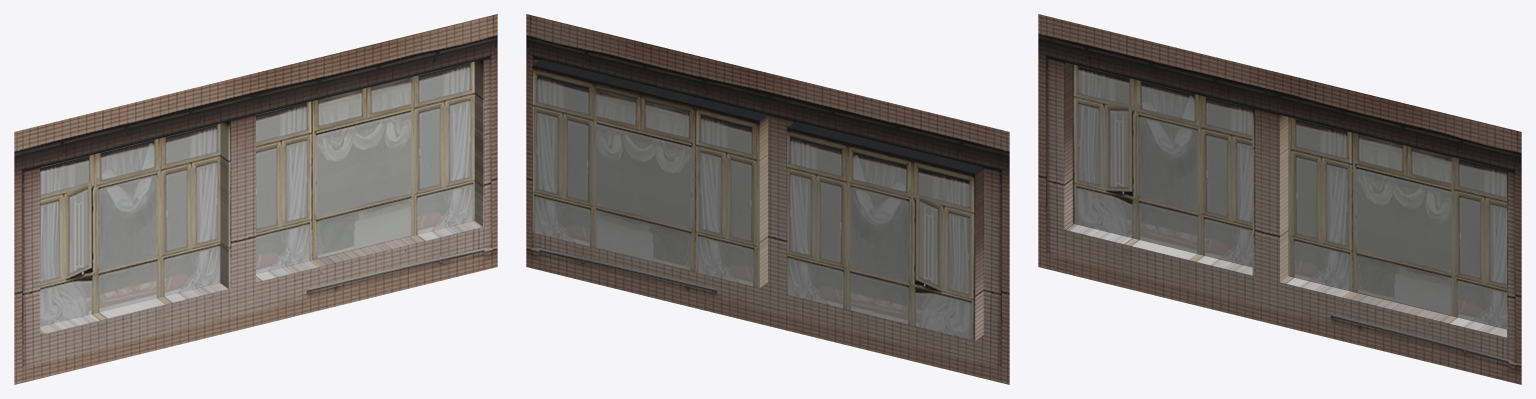
The model's file is CT_Building_Piece_01.fbx.
3 renders of one model, left to right at view 1: azimuth 30°, elevation 25°; view 2: azimuth 150°, elevation 25°; view 3: azimuth 330°, elevation 25°, orthographic.
Parts seen in each view (by area): view 1: CT_Building_Piece_01; view 2: CT_Building_Piece_01; view 3: CT_Building_Piece_01.
Part boxes in pixels (box(x1,y1,x2,y2)): CT_Building_Piece_01: box(14, 14, 497, 384); CT_Building_Piece_01: box(526, 14, 1009, 384); CT_Building_Piece_01: box(1038, 14, 1521, 384).
Bounding box in the file's own units: 512 × 256 × 15.
